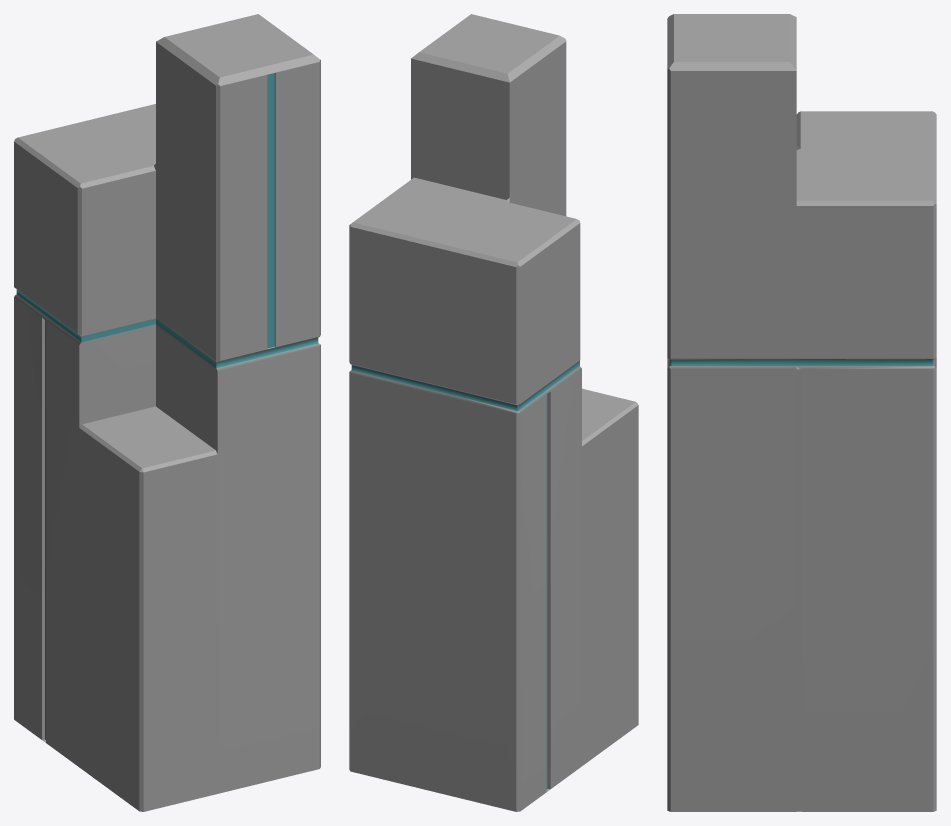
The model's file is bg_building_1.fbx.
The picture shows the model from 3 angles, left to right: view 1: azimuth 30°, elevation 25°; view 2: azimuth 150°, elevation 25°; view 3: azimuth 270°, elevation 25°; orthographic projection. The views are drawn at different scales.
Parts seen in each view (by area): view 1: pCube2; view 2: pCube2; view 3: pCube2.
Part boxes in pixels (x1,y1,x2,y2): pCube2: (14,14,320,811); pCube2: (349,14,638,811); pCube2: (667,14,936,811).
Size of the model in its own units: 13.12 by 49.28 by 16.11.
